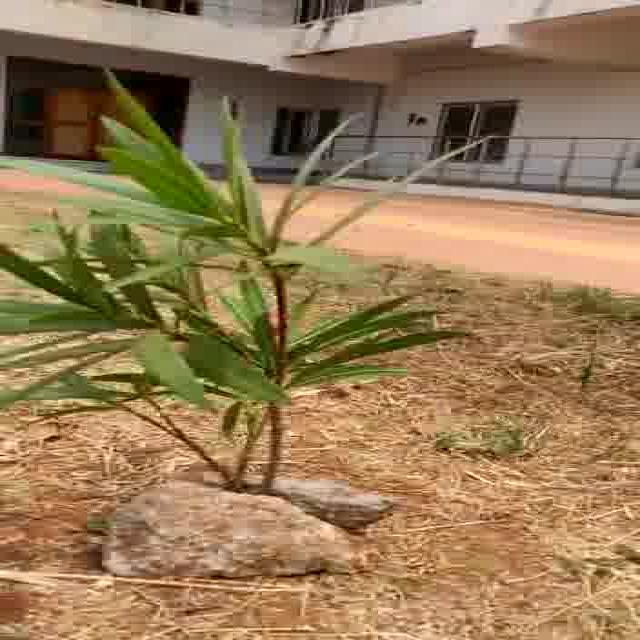Oleander: (0, 73, 421, 467)
